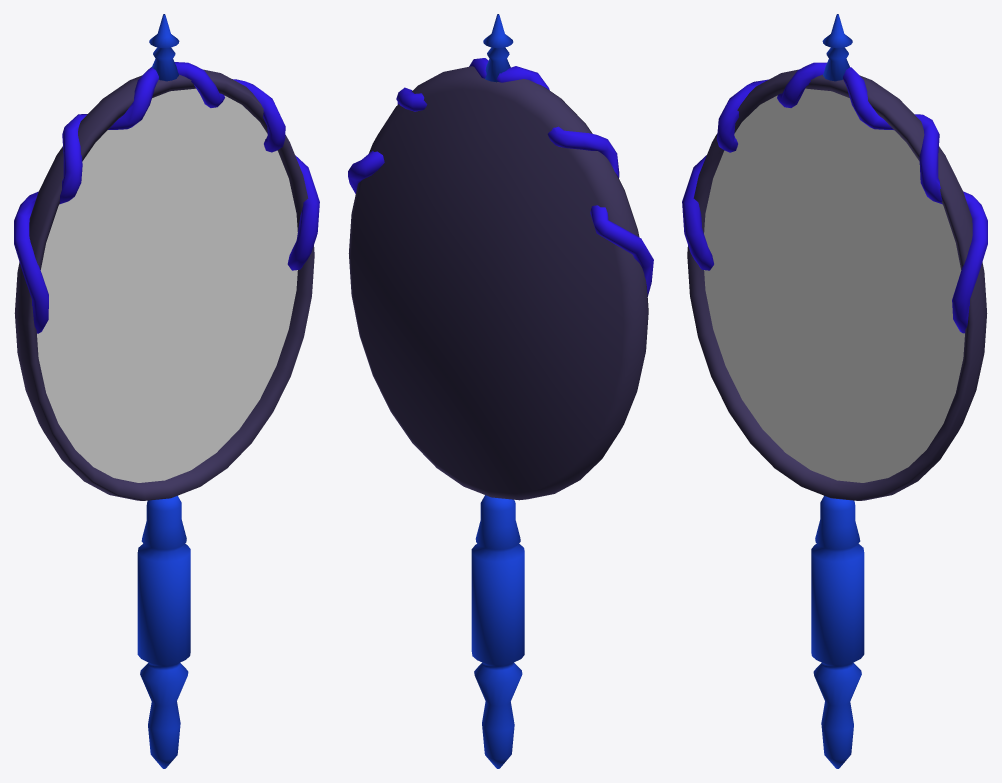
Rendered from Mirror.fbx.
3 renders of one model, left to right at view 1: azimuth 30°, elevation 25°; view 2: azimuth 150°, elevation 25°; view 3: azimuth 330°, elevation 25°, orthographic.
Parts seen in each view (by area): view 1: Cylinder; view 2: Cylinder; view 3: Cylinder.
Part boxes in pixels (x1,y1,x2,y2): Cylinder: [14, 14, 319, 768]; Cylinder: [348, 14, 653, 768]; Cylinder: [682, 14, 987, 768].
Bounding box in the file's own units: 209 × 511 × 40.49.
